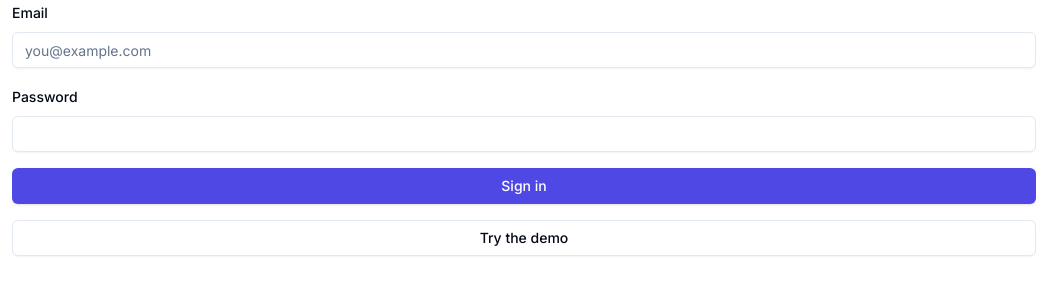
it: LoginForm › shows an inline error on blur for an invalid email, not before
This screenshot has width=1048, height=301.
Expected: the text "invalid" is not shown
Type "not-an-email" into the field labelled "Email" at (524, 50), box [12,32,1036,68]
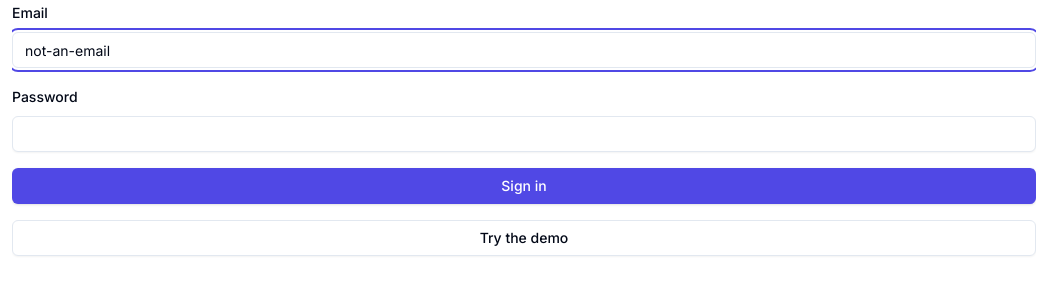
Expected: the text "invalid" is not shown
Press Tab
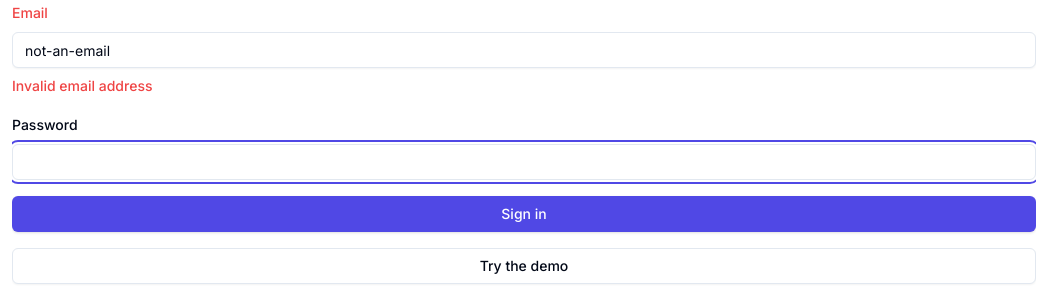
Now the text "Invalid" is shown, box [12,77,152,94]
